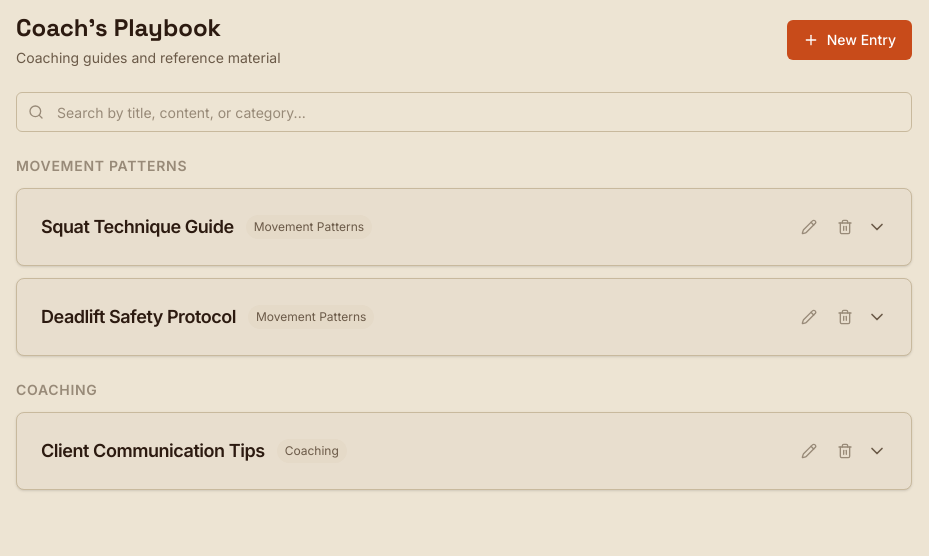
Test case: PlaybookPage › expands and collapses entries when clicked
Expected: the text "Detailed squat instructions" is not shown
Click to expand
Step 1. Click the heading "Squat Technique Guide" → (137, 227), box [41,213,234,241]
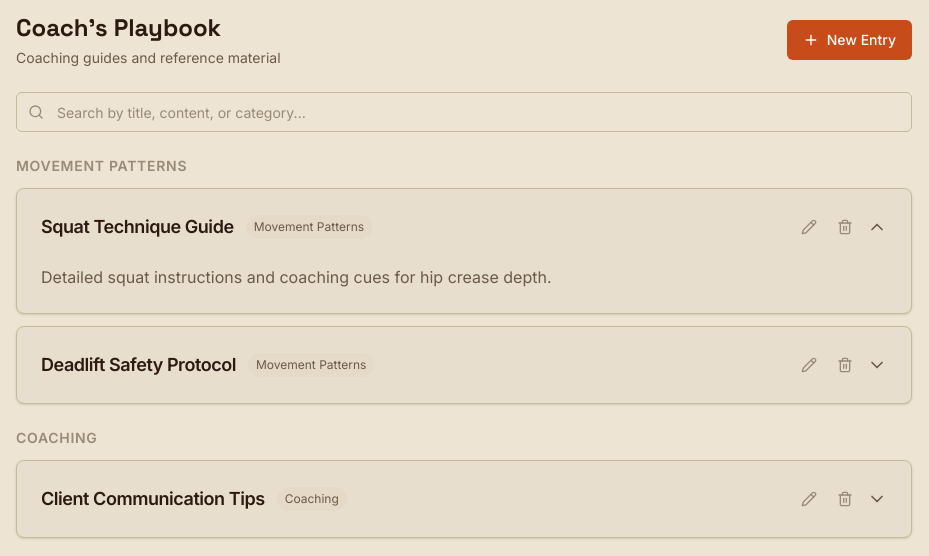
Now the text "Detailed squat instructions" is shown, box [41,267,552,287]
